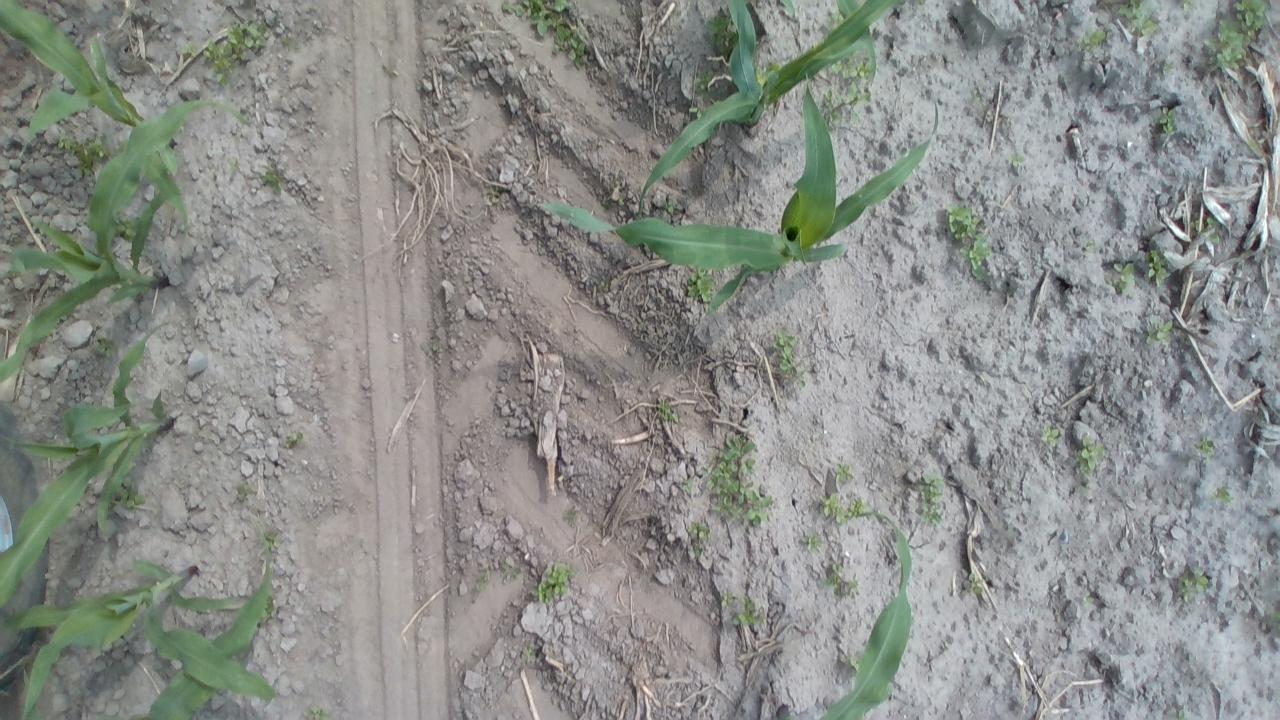Maize: (534, 78, 948, 305), (0, 103, 253, 385), (637, 0, 909, 216), (0, 320, 179, 616), (0, 544, 284, 718), (0, 2, 200, 206), (810, 509, 916, 720)
Weeds: (701, 426, 775, 530), (1204, 0, 1270, 74), (202, 18, 270, 86), (944, 200, 996, 278), (498, 0, 576, 39), (59, 136, 112, 178), (914, 468, 949, 528), (822, 85, 872, 127), (770, 327, 806, 385), (532, 560, 576, 607), (1072, 436, 1108, 483), (705, 10, 741, 55), (558, 24, 592, 69), (828, 57, 873, 91), (1174, 566, 1214, 604), (821, 492, 870, 523), (824, 563, 862, 601), (722, 594, 762, 630), (1118, 3, 1160, 37), (682, 268, 716, 308), (112, 478, 148, 513), (686, 518, 714, 559), (1144, 246, 1172, 287), (486, 556, 522, 586), (258, 161, 286, 199), (718, 592, 752, 623), (1142, 316, 1176, 346), (1110, 260, 1136, 298), (827, 460, 859, 487), (258, 525, 284, 557), (1078, 26, 1108, 52), (1191, 434, 1217, 464), (1195, 216, 1221, 244), (961, 570, 987, 598), (90, 333, 118, 358), (1156, 107, 1180, 136), (114, 213, 140, 239), (693, 66, 715, 96), (796, 530, 826, 552), (655, 399, 678, 426), (1040, 422, 1063, 448), (1004, 150, 1029, 172), (828, 1, 849, 27), (298, 703, 332, 719), (420, 336, 442, 360), (1077, 235, 1101, 255), (1210, 484, 1234, 504), (235, 480, 254, 505), (559, 505, 580, 526), (282, 428, 304, 448), (657, 198, 680, 217), (178, 40, 198, 60), (1156, 56, 1176, 75), (472, 572, 489, 594), (1080, 591, 1098, 611), (261, 598, 276, 622), (844, 652, 861, 673), (226, 157, 244, 176), (679, 476, 696, 496), (276, 32, 297, 46), (522, 641, 538, 659), (1164, 708, 1188, 718), (1177, 0, 1198, 11)
